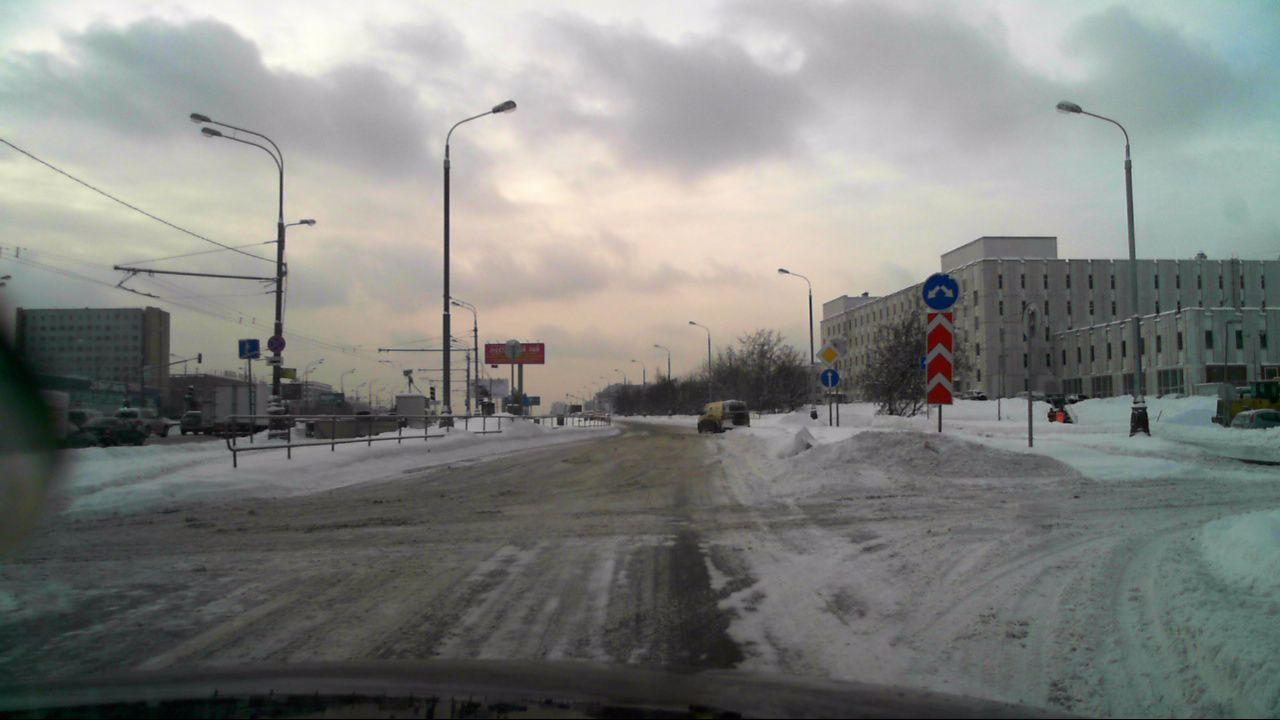No Parking: (267, 336, 286, 354)
